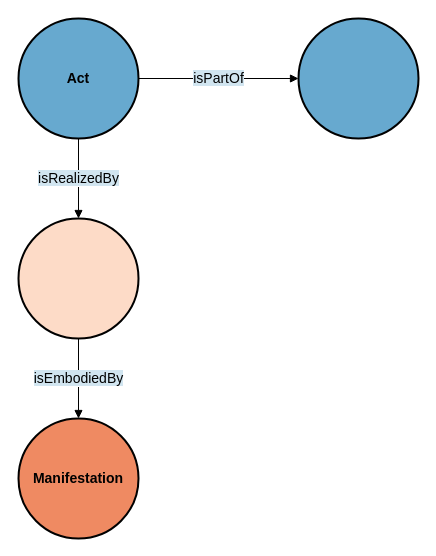
This 436x556 diagram has some shape labels left out. The shapes that lost their labels are listed below. From the top down, each one's box as (x1, y1, x2, y2) in pixels, then its label:
(297, 17, 419, 139): Memorial
(17, 217, 139, 339): Expression
